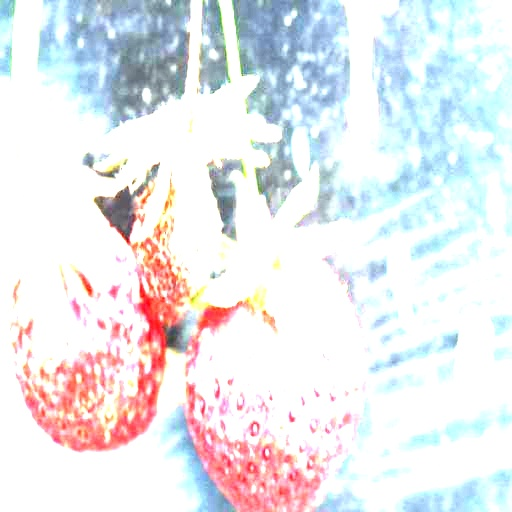Gray Mold: (129, 109, 272, 327)
